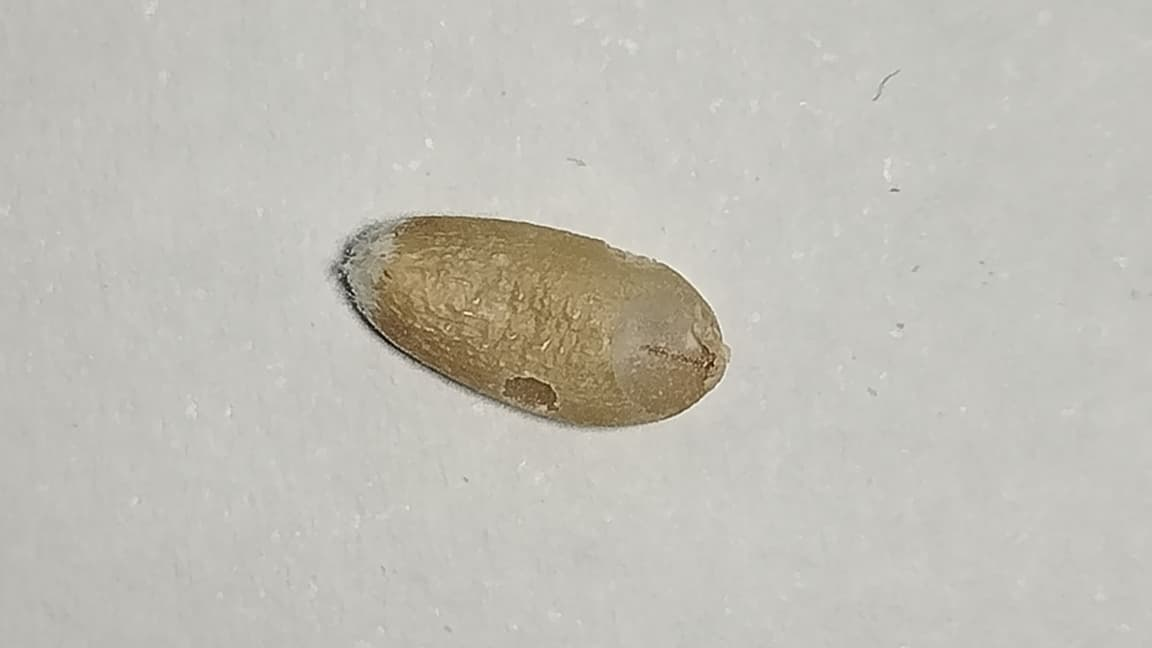damage: (346, 215, 729, 424)
insectdamage: (602, 242, 728, 427), (482, 353, 620, 424)
